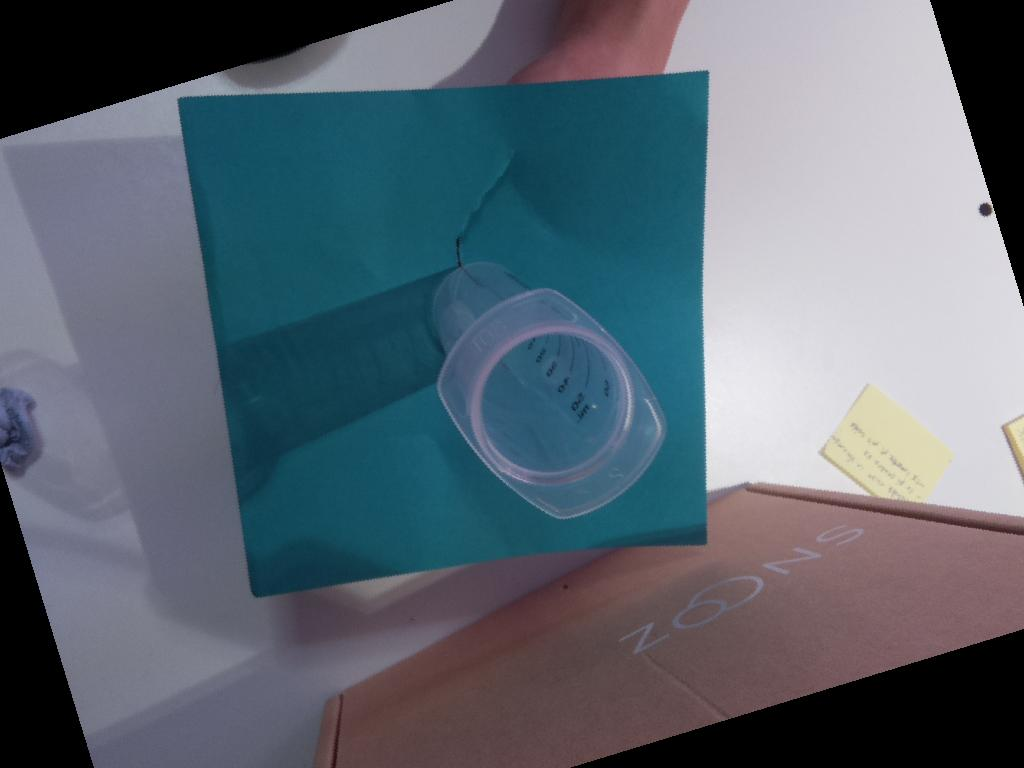clean: (435, 286, 670, 521)
